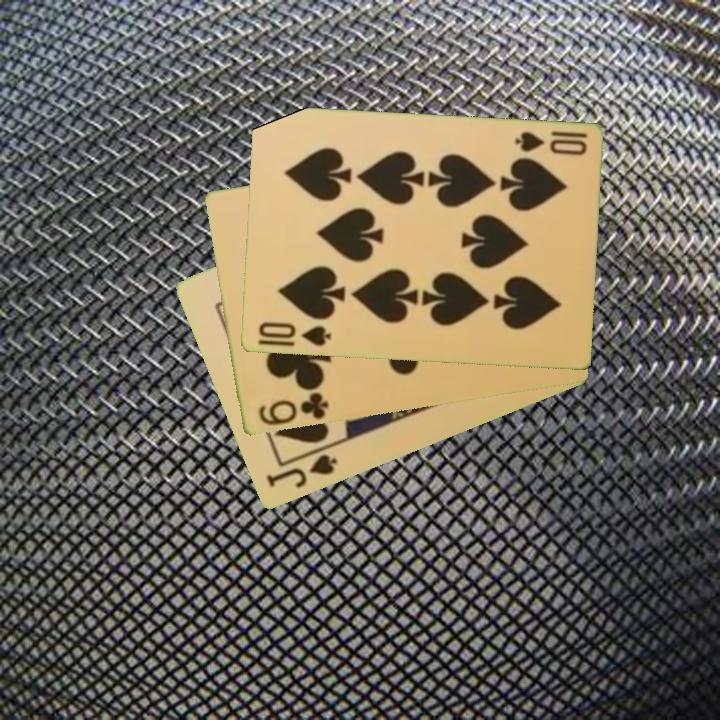10s: (511, 128, 590, 159), (254, 319, 333, 349)
6c: (254, 389, 332, 429)
Js: (262, 451, 340, 492)
